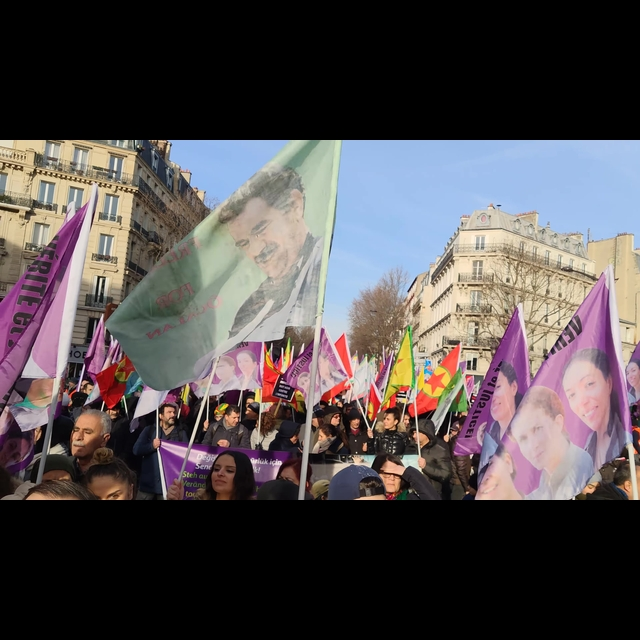PKK: (419, 361, 450, 398)
